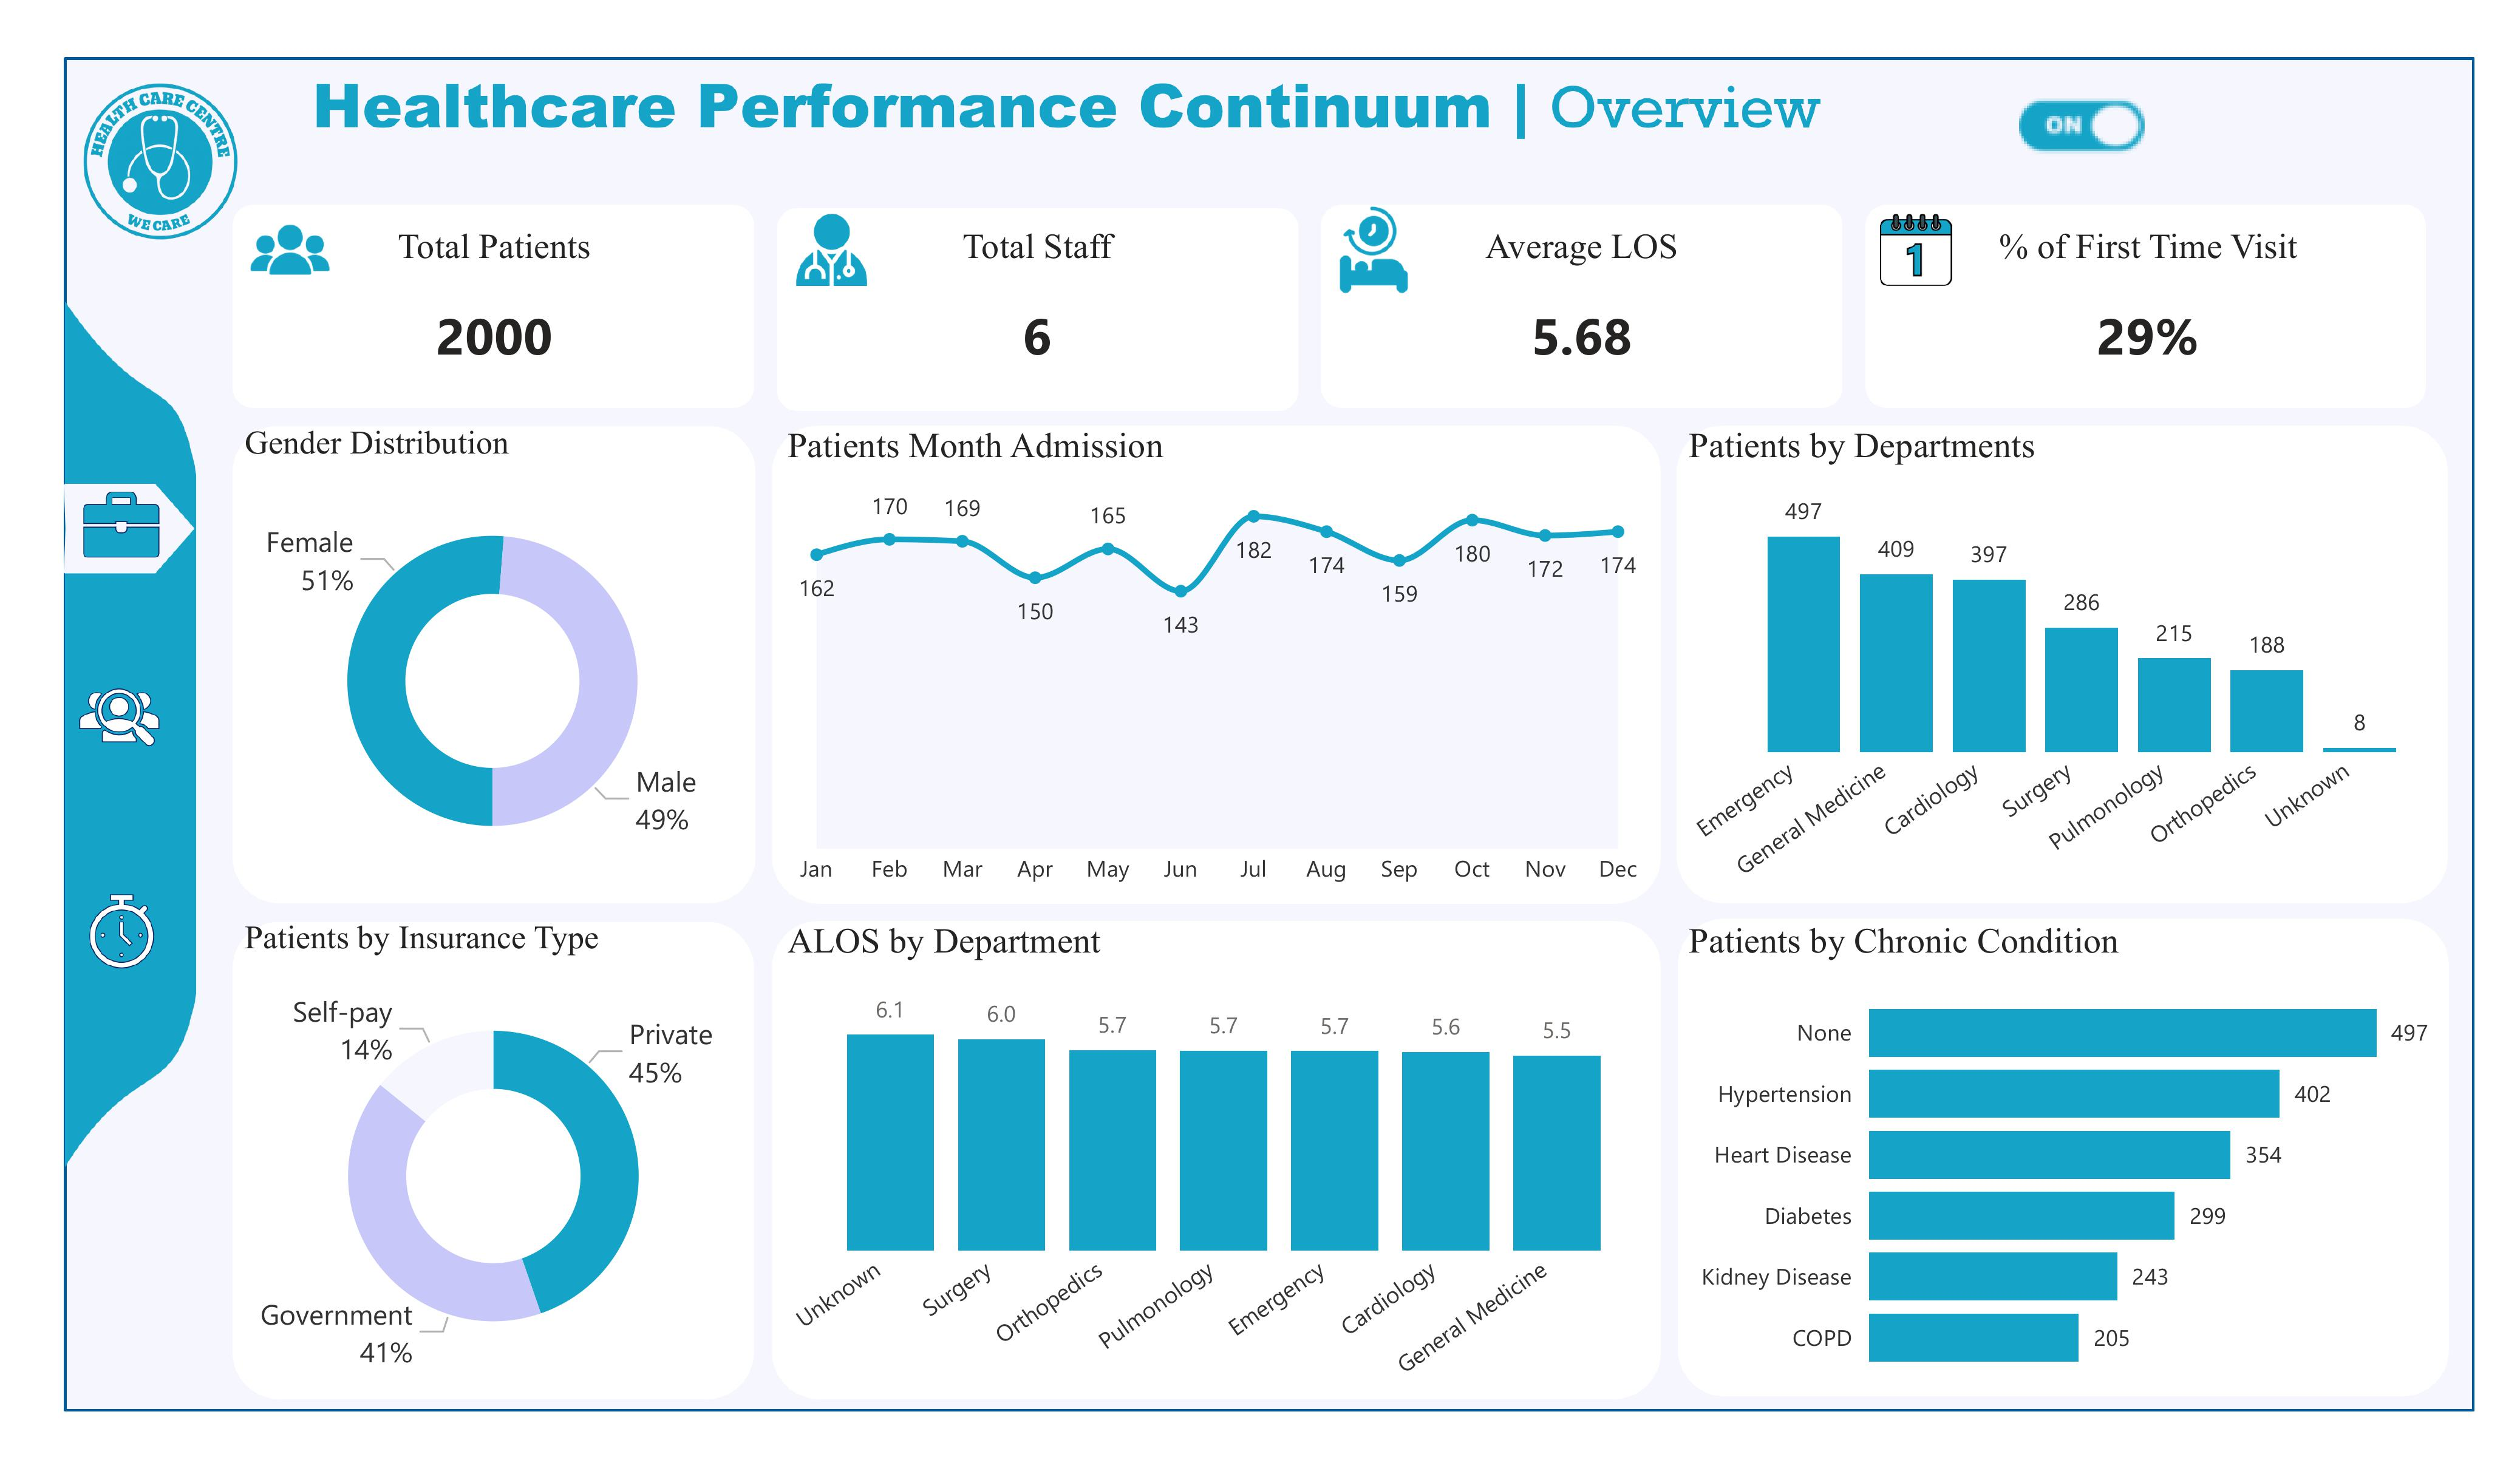

The page's visual inventory and layout, read from the dashboard file:
{"tool":"powerbi","page":{"name":"Overview","canvas":[1280,720],"ordinal":0},"visuals":[{"type":"card","title":"Total Patients","fields":{"Values":["CountNonNull(Cleaned patients.Patient_ID)"]},"box":[100.5,80.2,272.1,110.7],"z":0},{"type":"card","title":"Total Staff","fields":{"Values":["CountNonNull(hospital_operations.Staff_Count)"]},"box":[387.3,80.2,271,110.7],"z":1000},{"type":"card","title":"Average LOS","fields":{"Values":["Avg(Cleaned patients.Length_of_Stay)"]},"box":[674.1,80.2,271,110.7],"z":2000},{"type":"card","title":"% of First Time Visit","fields":{"Values":["Avg(Cleaned patients.First_Time_Visit)"]},"box":[959.8,80.2,295.8,110.7],"z":3000},{"type":"donutChart","title":"Gender Distribution","fields":{"Y":["CountNonNull(Cleaned patients.Patient_ID)"],"Category":["Cleaned patients.Gender"]},"box":[100.5,199.9,271,250.7],"z":4000},{"type":"donutChart","title":"Patients by Insurance Type","fields":{"Y":["CountNonNull(Cleaned patients.Patient_ID)"],"Category":["Cleaned patients.Insurance_Type"]},"box":[100,461.2,271.8,250.6],"z":5000},{"type":"lineChart","title":"Patients Month Admission","fields":{"Y":["CountNonNull(Cleaned patients.Patient_ID)"],"Category":["Cleaned patients.Month Abbreviation"]},"box":[387.3,199.9,460.7,250.7],"z":6000},{"type":"columnChart","title":"Patients by Departments","fields":{"Y":["CountNonNull(Cleaned patients.Patient_ID)"],"Category":["Cleaned patients.Admission_Department"]},"box":[861.2,200,402.4,250.6],"z":7000},{"type":"columnChart","title":"ALOS by Department","fields":{"Y":["Avg(Cleaned patients.Length_of_Stay)"],"Category":["Cleaned patients.Admission_Department"]},"box":[387,461,461,251],"z":8000},{"type":"barChart","title":"Patients by Chronic Condition","fields":{"Y":["CountNonNull(Cleaned patients.Patient_ID)"],"Category":["Cleaned patients.Chronic_Condition"]},"box":[861,461,402,251],"z":9000},{"type":"actionButton","box":[9.4,229.4,71.8,51.8],"z":10000},{"type":"actionButton","box":[9.4,331.8,71.8,51.8],"z":11000},{"type":"actionButton","box":[10.6,440,71.8,51.8],"z":12000},{"type":"actionButton","title":"F","box":[1015.3,5.9,114.1,74.1],"z":13000}]}

Visuals, with their boxes on the page's 1280x720 design canvas (x1, y1, x2, y2). These are canvas units, not pixel positions in the 2520x1457 screenshot, which may show the page scaled, cropped or inside an application window:
"Total Patients" card: [100, 80, 373, 191]
"Total Staff" card: [387, 80, 658, 191]
"Average LOS" card: [674, 80, 945, 191]
"% of First Time Visit" card: [960, 80, 1256, 191]
"Gender Distribution" donutChart: [100, 200, 372, 451]
"Patients by Insurance Type" donutChart: [100, 461, 372, 712]
"Patients Month Admission" lineChart: [387, 200, 848, 451]
"Patients by Departments" columnChart: [861, 200, 1264, 451]
"ALOS by Department" columnChart: [387, 461, 848, 712]
"Patients by Chronic Condition" barChart: [861, 461, 1263, 712]
actionButton: [9, 229, 81, 281]
actionButton: [9, 332, 81, 384]
actionButton: [11, 440, 82, 492]
"F" actionButton: [1015, 6, 1129, 80]
